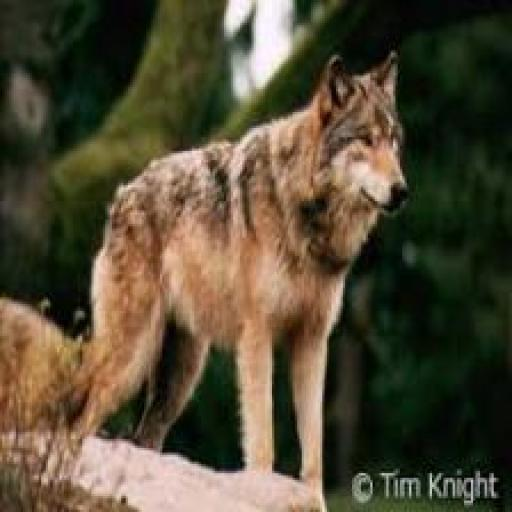wolf: (62, 43, 412, 504)
